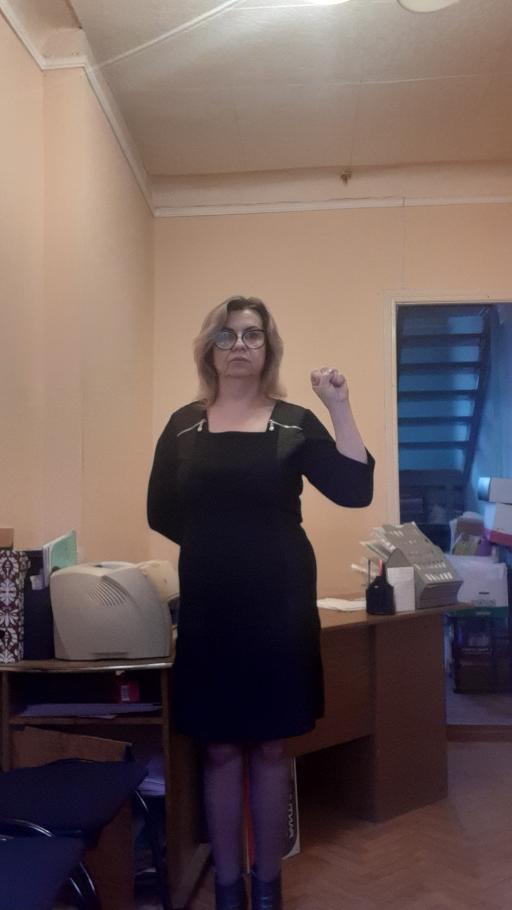fist: (309, 364, 352, 409)
